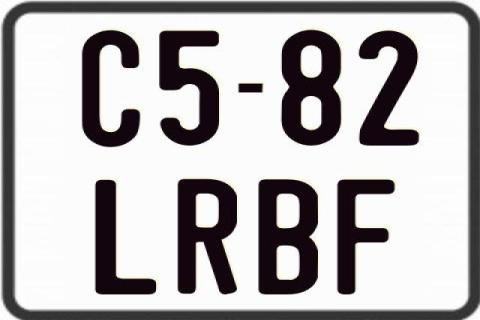0: (158, 29, 220, 149), (356, 30, 418, 146), (278, 28, 338, 146)
B: (258, 179, 323, 296)
C: (80, 30, 140, 150)
F: (334, 178, 392, 294)
L: (93, 177, 158, 293)
R: (178, 178, 239, 294)
